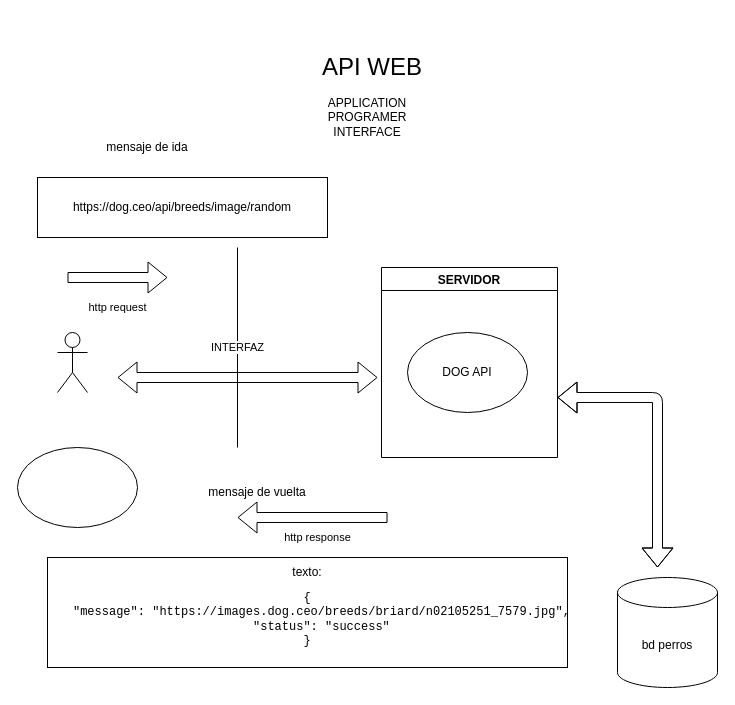
Some shapes in this 735 by 705 pixel diagram are drawn without their labels. The centre of each missing label's shape, as x and y in pixels:
cliente: the point at 72,362
NAVEGADOR: the point at 77,487
